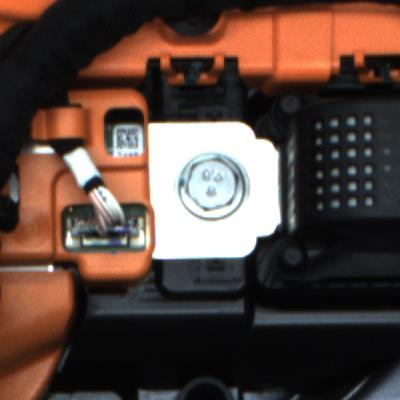nut_b: (176, 153, 251, 224)
